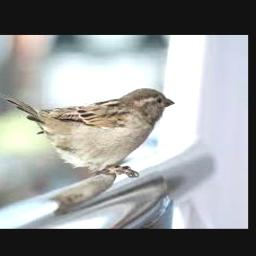Sparrow: (1, 89, 175, 177)
